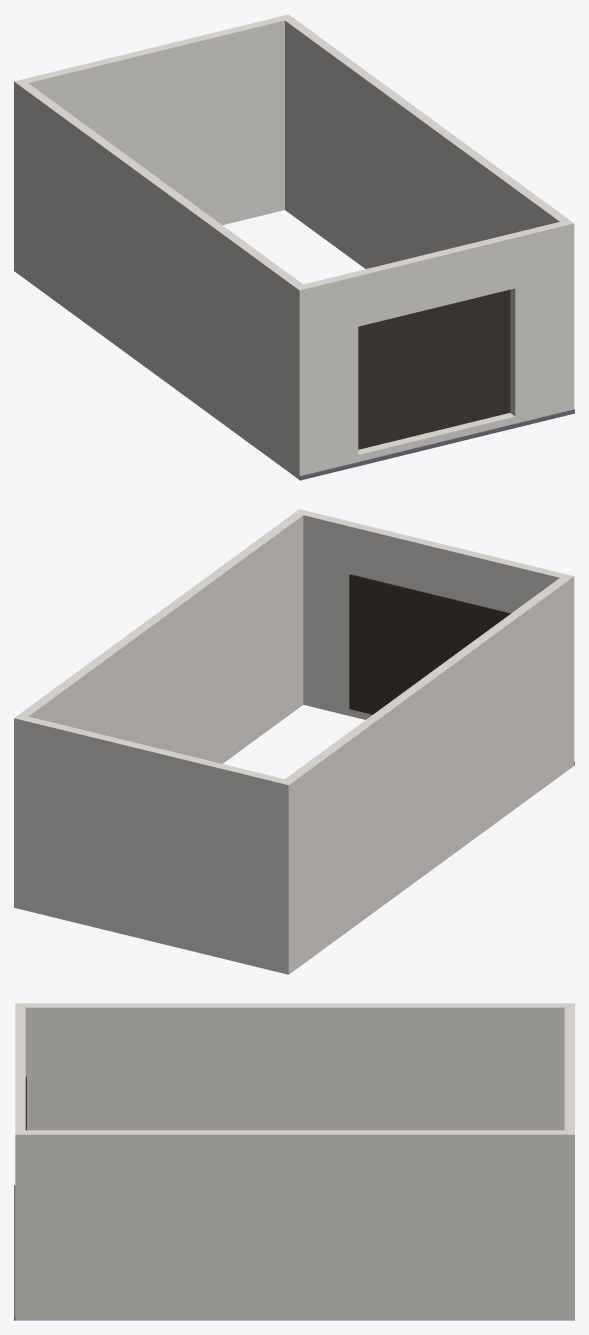
File: SM_Floor_NarrowUpperBalcony_White_455_01.gltf
3 views of the same model, one above another, from view 1: azimuth 30°, elevation 25°; view 2: azimuth 150°, elevation 25°; view 3: azimuth 270°, elevation 25° (orthographic). The views are drawn at different scales.
Visible parts, largest first — view 1: SM_Floor_NarrowUpperBalcony_White_455_01; view 2: SM_Floor_NarrowUpperBalcony_White_455_01; view 3: SM_Floor_NarrowUpperBalcony_White_455_01.
Boxes of the visible parts, box(x1,y1,x2,y2) form: SM_Floor_NarrowUpperBalcony_White_455_01: box(14, 14, 574, 480); SM_Floor_NarrowUpperBalcony_White_455_01: box(14, 509, 574, 974); SM_Floor_NarrowUpperBalcony_White_455_01: box(14, 1003, 574, 1320).
Size of the model in its own units: 4.55 by 3 by 8.21.
Materials: 1 (1 with a texture image).
